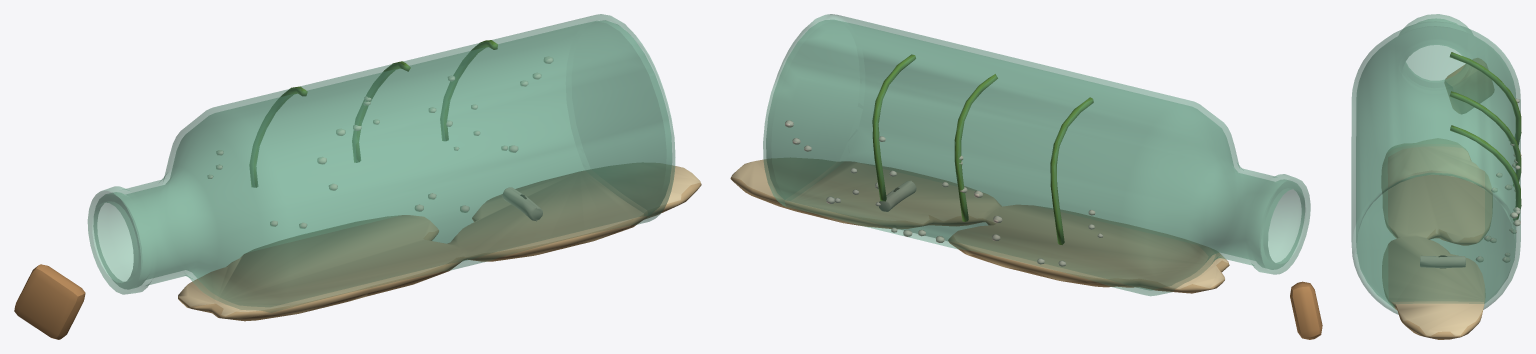
The model's file is shore_bottle_lod1.glb.
The picture shows the model from 3 angles, left to right: view 1: azimuth 30°, elevation 25°; view 2: azimuth 150°, elevation 25°; view 3: azimuth 270°, elevation 25°; orthographic projection. The views are drawn at different scales.
Parts seen in each view (by area): view 1: shore_bottle.001; view 2: shore_bottle.001; view 3: shore_bottle.001.
Boxes of the visible parts, box(x1,y1,x2,y2) form: shore_bottle.001: box(14, 14, 701, 339); shore_bottle.001: box(730, 14, 1322, 339); shore_bottle.001: box(1351, 14, 1521, 339).
Bounding box in the file's own units: 44.28 × 12.72 × 12.77.
